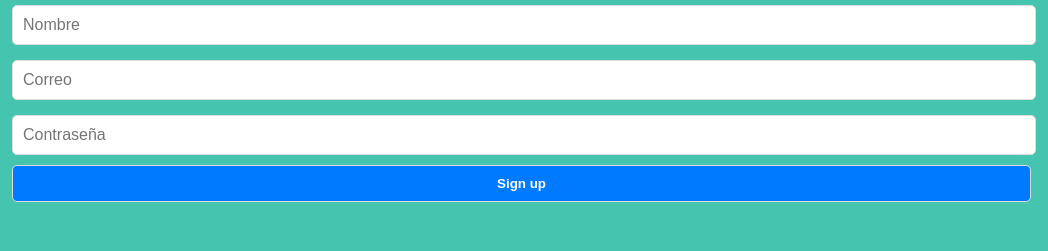
Test: SignUpForm.vue › al enviar el formulario muestra el mensaje de registro
Type "Andy" into the field with placeholder "Nombre" at (524,25), box [12,5,1036,45]
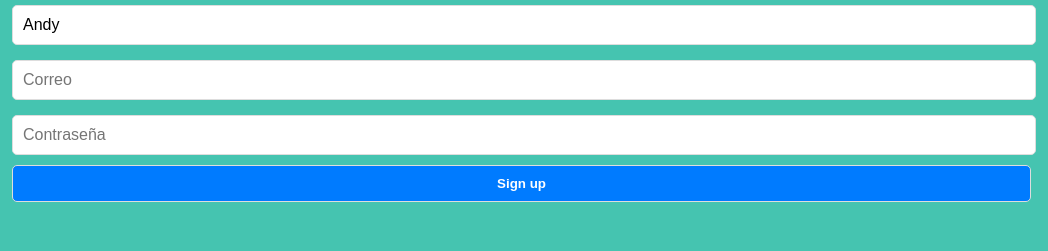
Type "andy@example.com" into the field with placeholder "Correo" at (524,80), box [12,60,1036,100]
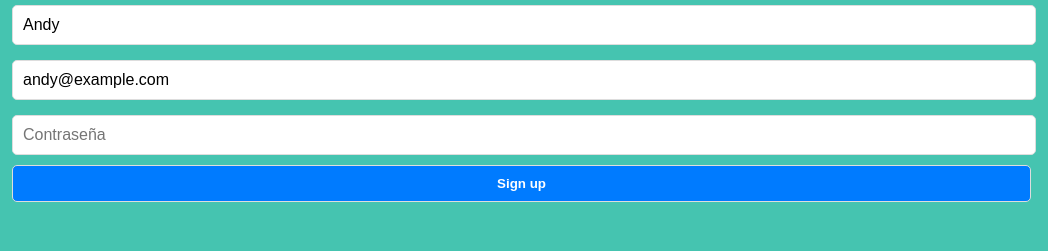
Type "Secreta123" into the password field with placeholder "Contraseña" at (524,135), box [12,115,1036,155]
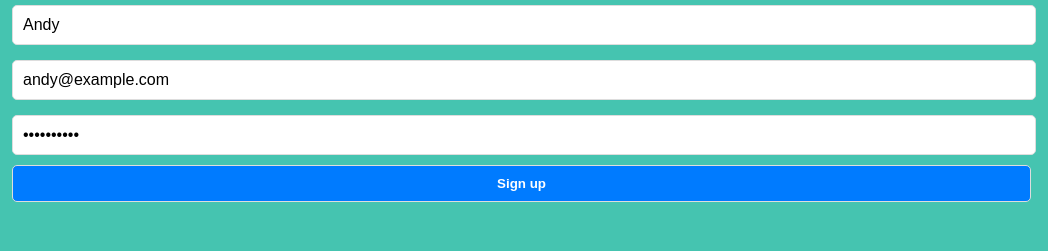
Submit the form
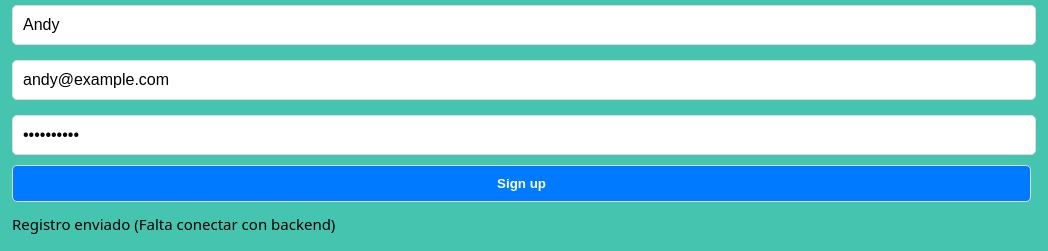
Result: the text "Registro enviado (Falta conectar con backend)" is shown at [12,214,335,234]
